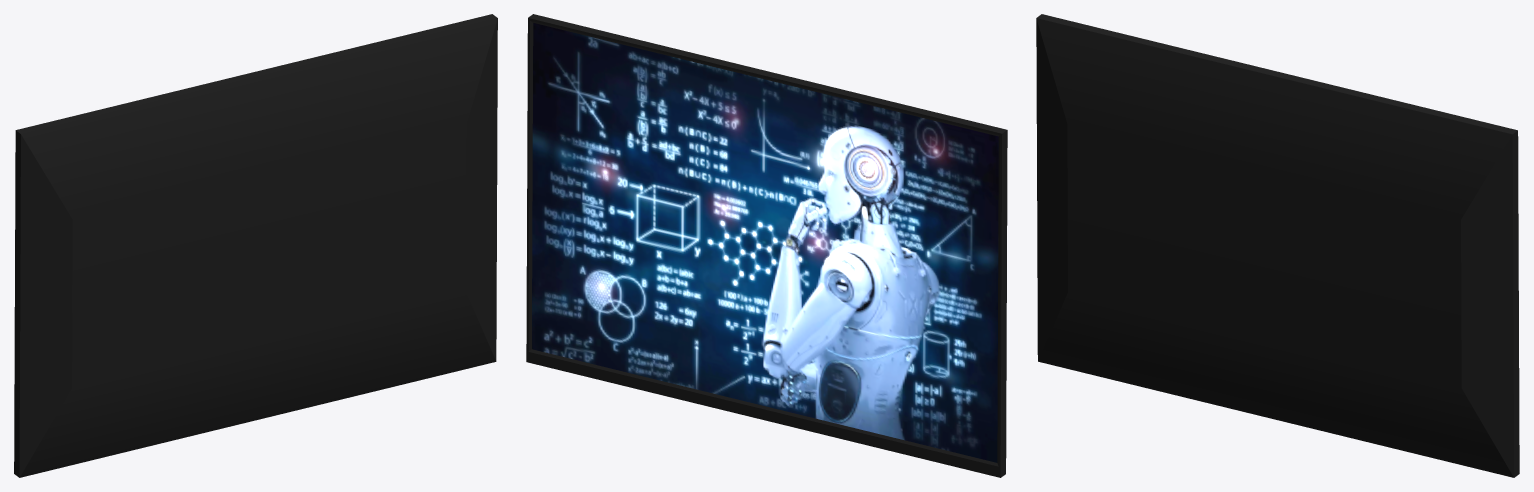
The model's file is DisplayScreenC.fbx.
The picture shows the model from 3 angles, left to right: view 1: azimuth 30°, elevation 25°; view 2: azimuth 150°, elevation 25°; view 3: azimuth 330°, elevation 25°; orthographic projection.
Parts seen in each view (by area): view 1: DisplayScreenC; view 2: DisplayScreenC; view 3: DisplayScreenC.
Part boxes in pixels (bbox=[...]): DisplayScreenC: bbox=[14, 14, 497, 477]; DisplayScreenC: bbox=[526, 14, 1007, 477]; DisplayScreenC: bbox=[1036, 14, 1519, 477].
Bounding box in the file's own units: 182 × 126 × 11.55.
